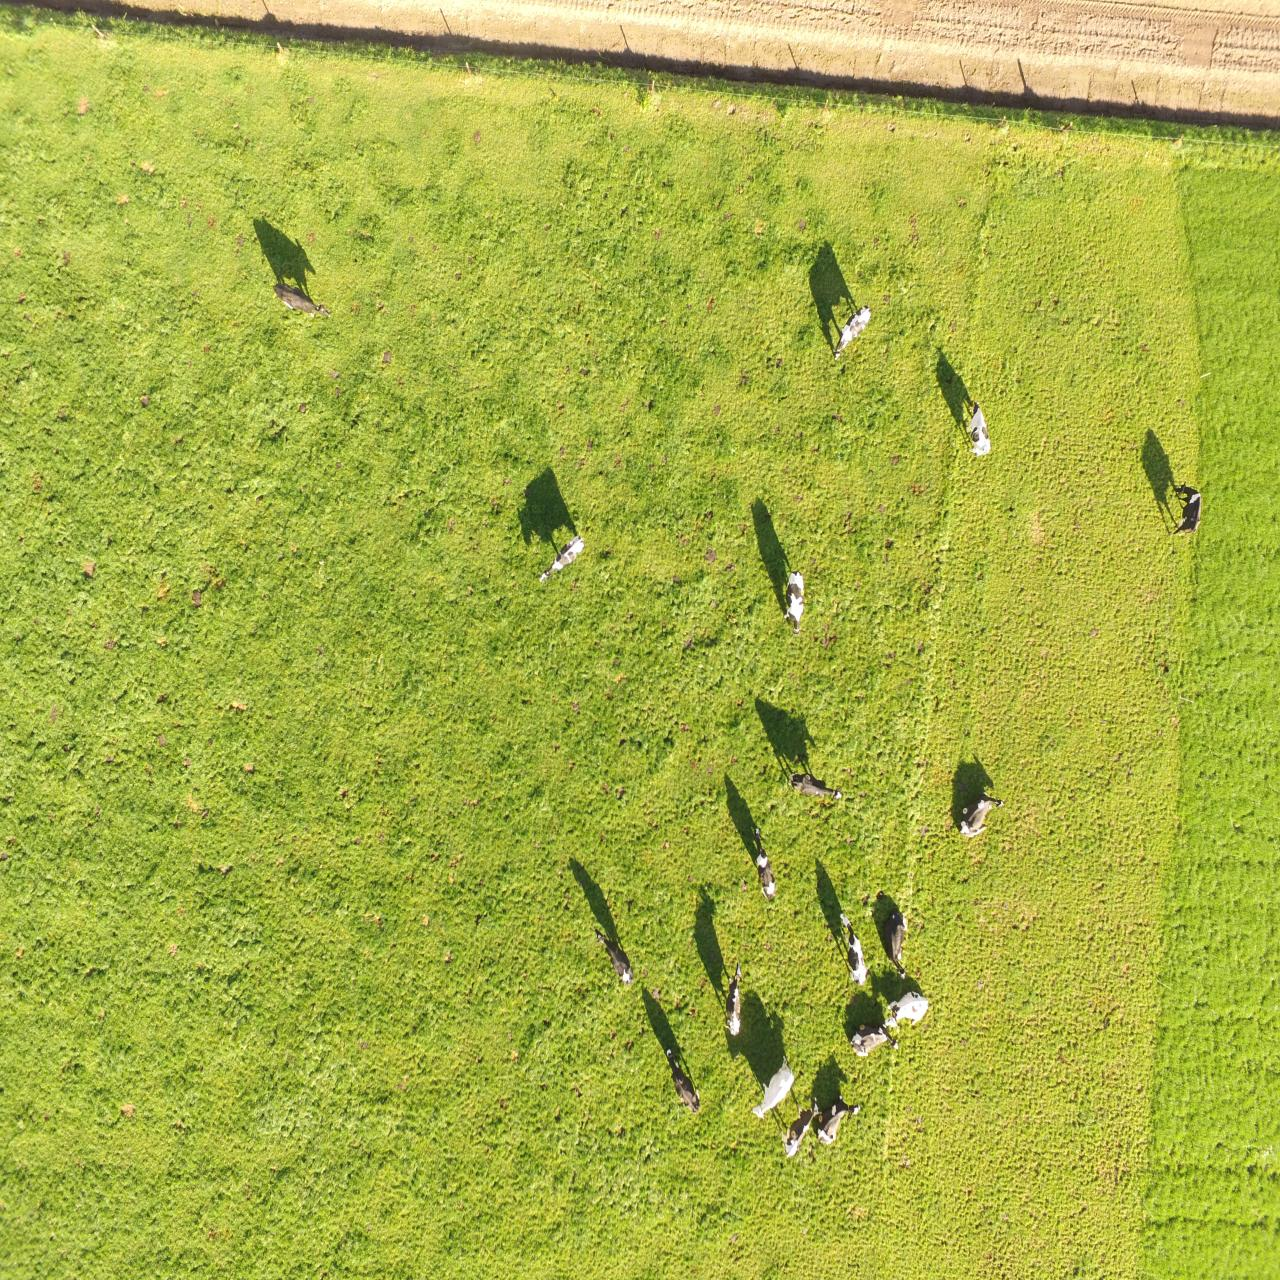cow: (658, 1049, 702, 1115), (586, 926, 634, 986), (750, 1056, 794, 1121), (268, 279, 332, 319), (830, 300, 871, 361), (952, 797, 1006, 840), (536, 536, 585, 583), (1164, 482, 1203, 540), (778, 1101, 818, 1156), (745, 830, 778, 897), (818, 1096, 862, 1146), (959, 403, 996, 458), (783, 772, 845, 805), (847, 1023, 899, 1061), (881, 911, 912, 973), (885, 989, 930, 1027), (726, 958, 745, 1039), (783, 570, 804, 636)
